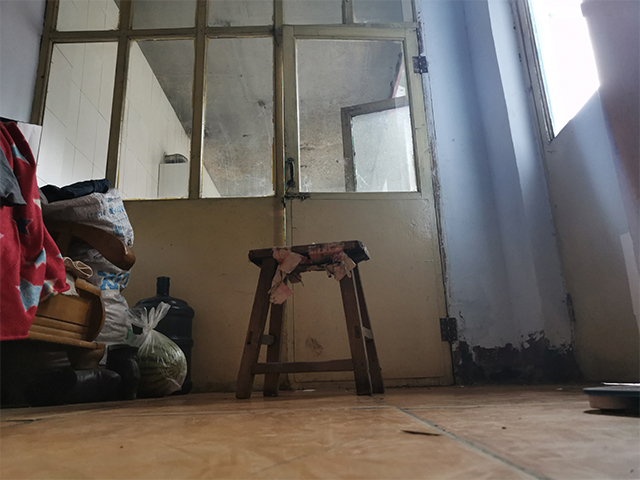stool: (234, 238, 386, 400)
